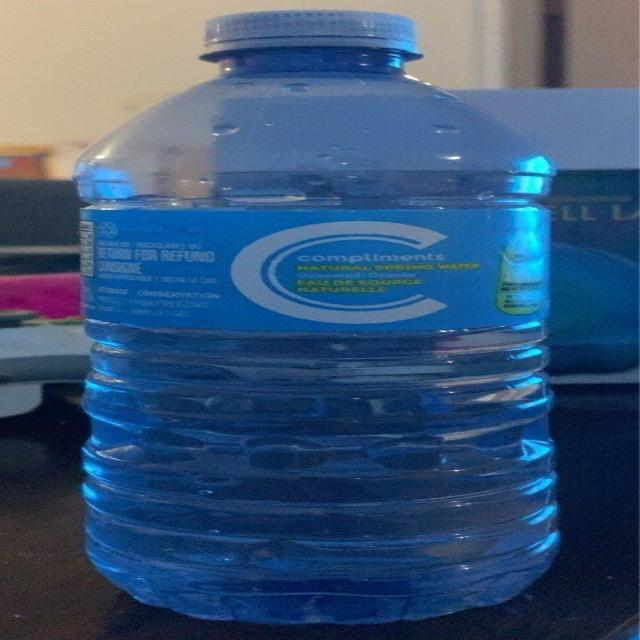litter: (94, 0, 561, 614)
